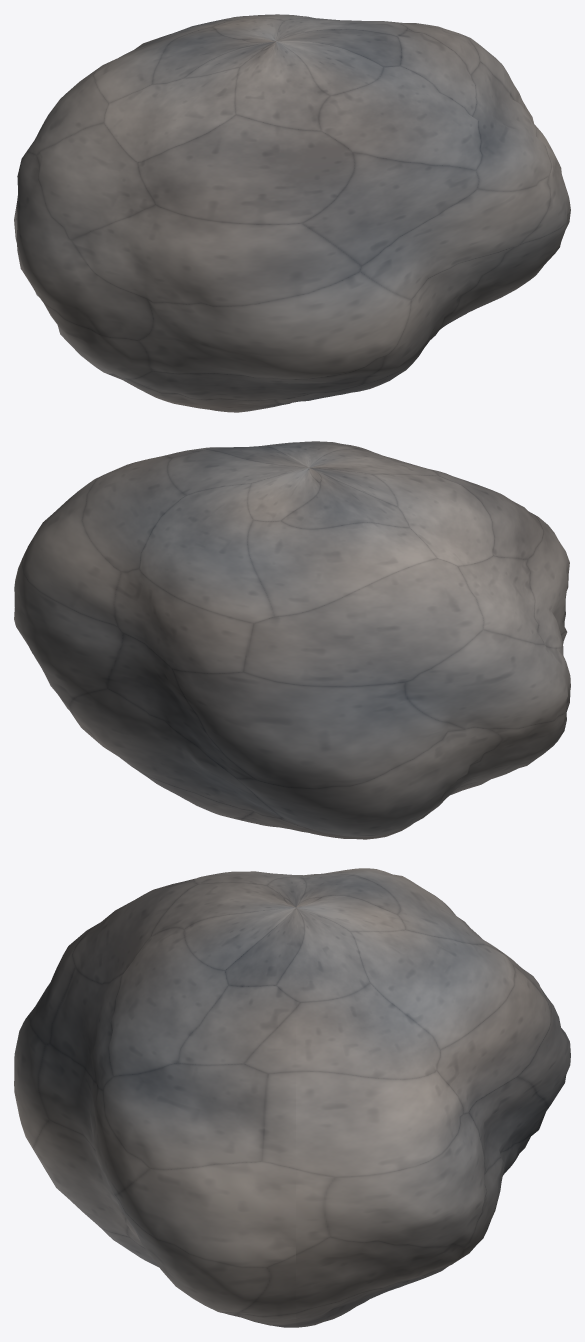
File: rock_hd.glb
3 renders of one model, top to bottom at view 1: azimuth 30°, elevation 25°; view 2: azimuth 150°, elevation 25°; view 3: azimuth 270°, elevation 25°, orthographic. The views are drawn at different scales.
Parts seen in each view (by area): view 1: Rock; view 2: Rock; view 3: Rock.
Part boxes in pixels (x1,y1,x2,y2): Rock: [14, 14, 570, 412]; Rock: [14, 441, 570, 839]; Rock: [14, 868, 570, 1327].
Size of the model in its own units: 1.76 by 1.13 by 1.53.
1 material, 1 textured.
